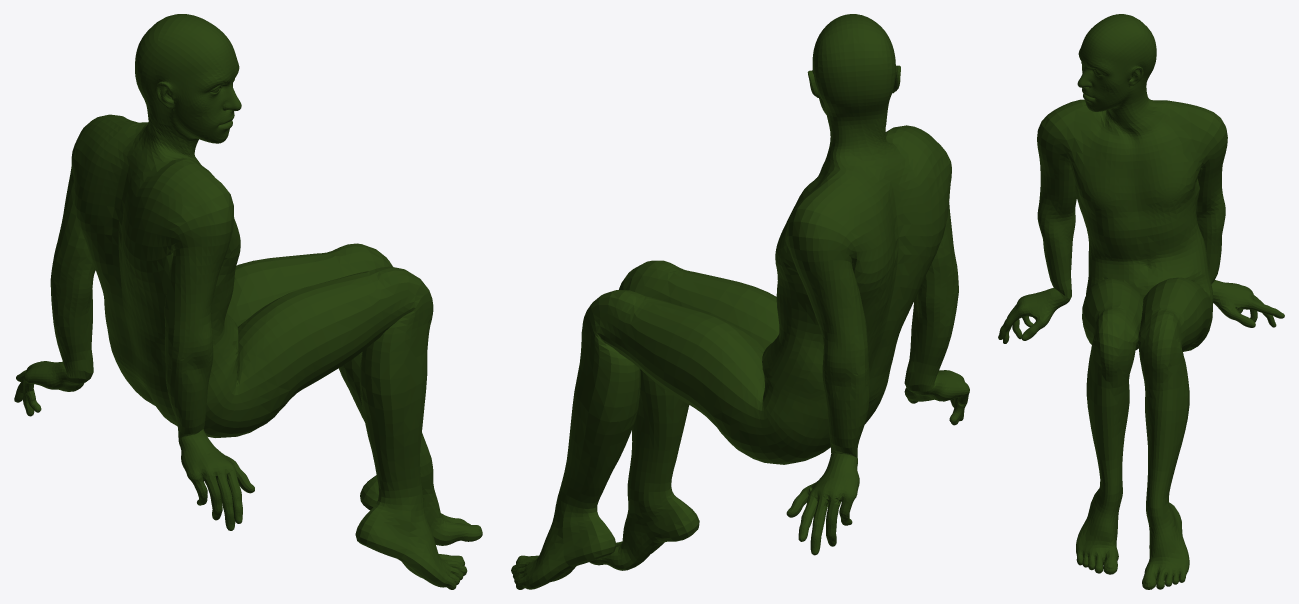
File: pose_original_8.obj
The picture shows the model from 3 angles, left to right: view 1: azimuth 30°, elevation 25°; view 2: azimuth 150°, elevation 25°; view 3: azimuth 270°, elevation 25°; orthographic projection. The views are drawn at different scales.
Size of the model in its own units: 1.49 by 2.19 by 1.24.
